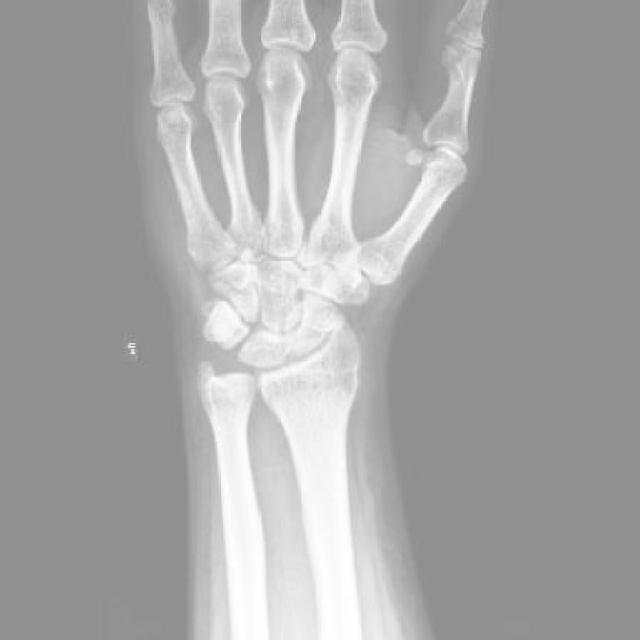Fracture: (196, 297, 230, 331)
